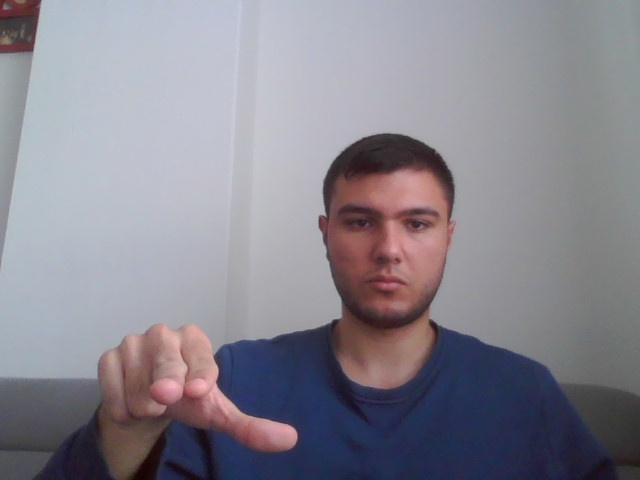no: (94, 323, 298, 453)
